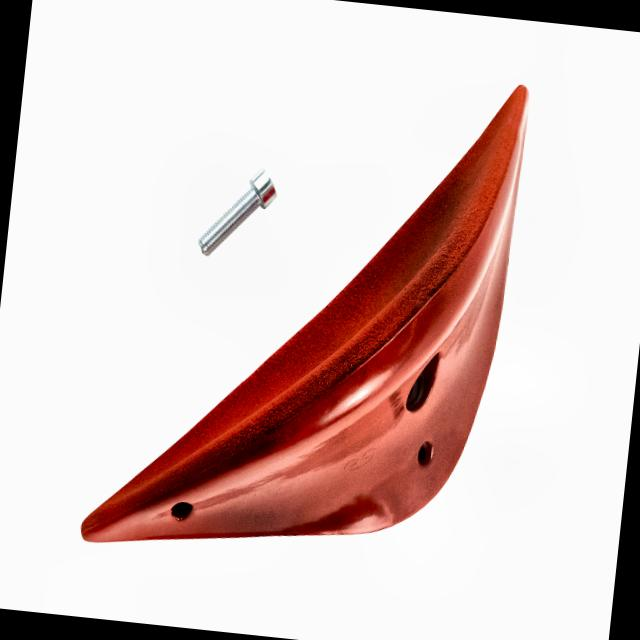Hold: (57, 78, 539, 553)
